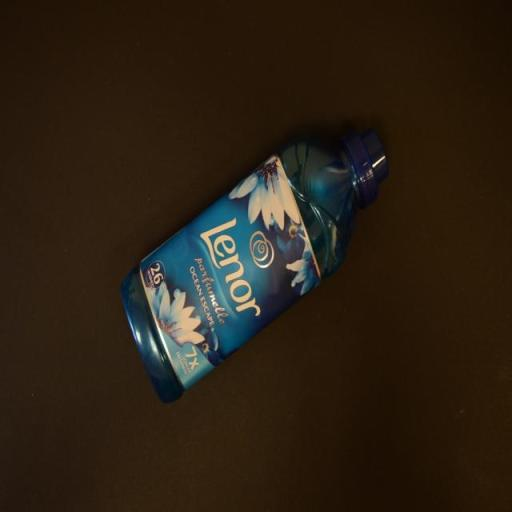plastic: (121, 130, 387, 403)
